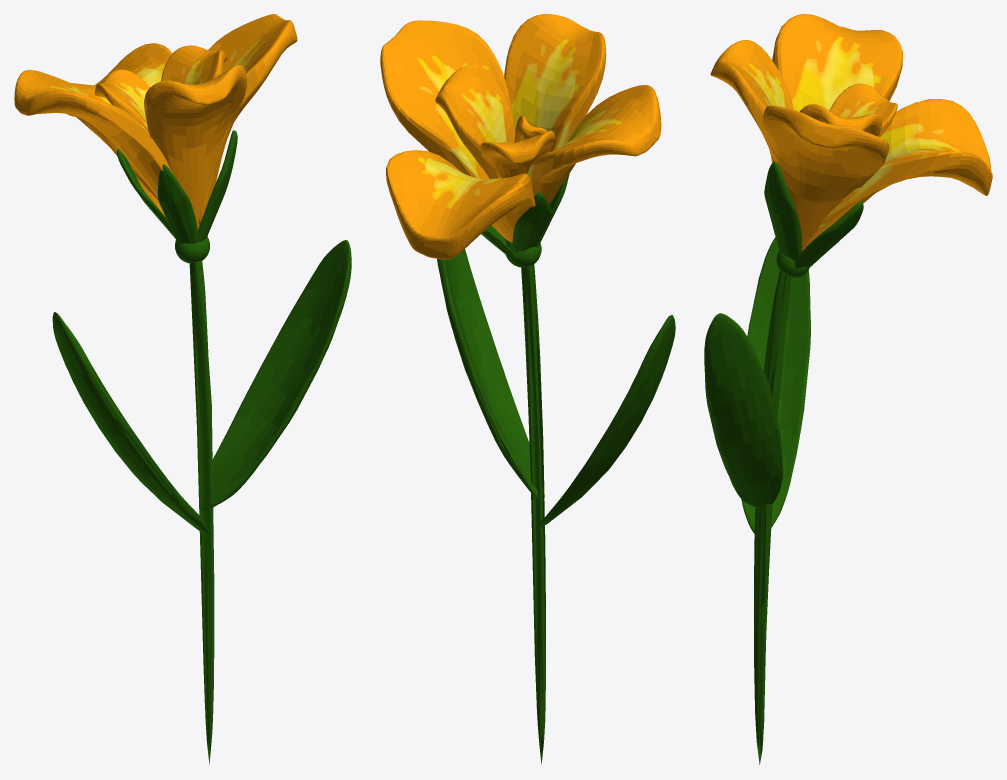
File: Guilt_Canna.glb
3 renders of one model, left to right at view 1: azimuth 30°, elevation 25°; view 2: azimuth 150°, elevation 25°; view 3: azimuth 270°, elevation 25°, orthographic. The views are drawn at different scales.
Visible parts, largest first — view 1: Sphere; view 2: Sphere; view 3: Sphere.
Boxes of the visible parts, x1,y1,x2,y2 form: Sphere: (14,14,351,765); Sphere: (380,14,675,764); Sphere: (704,14,992,764).
Size of the model in its own units: 5.96 by 15.13 by 5.61.
Materials: 3 (1 with a texture image).
